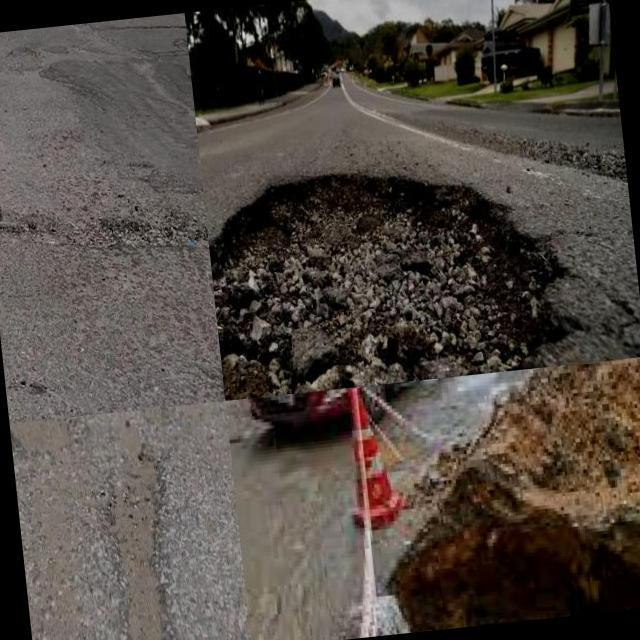Pothole: (208, 173, 557, 400), (403, 529, 640, 632), (109, 438, 176, 640), (9, 417, 81, 458)
